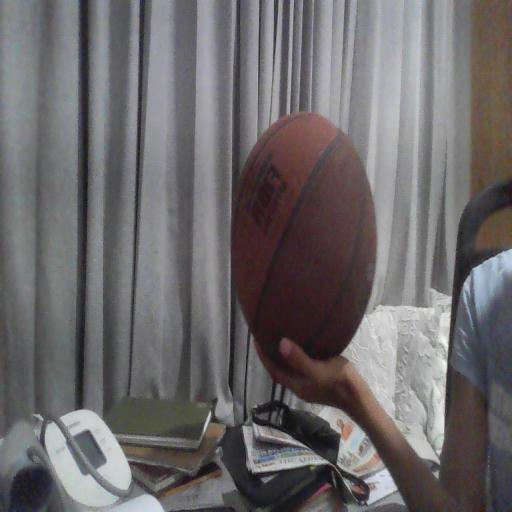basketball: (231, 112, 376, 359)
